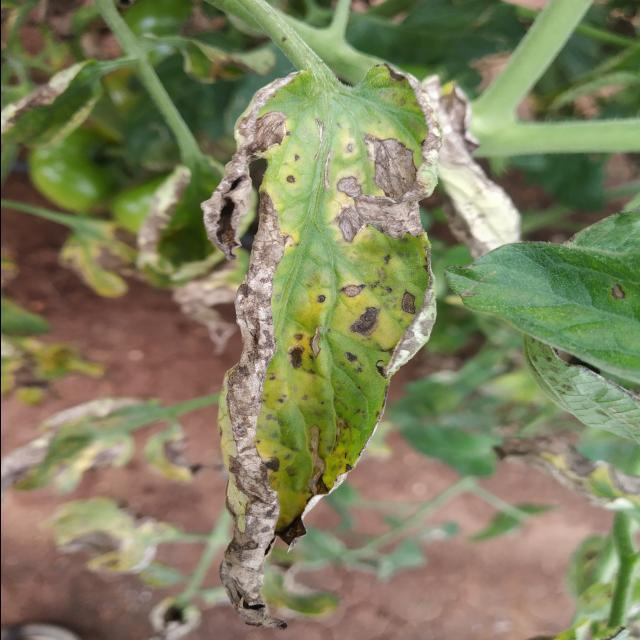Tomato mosaic virus leaf: (200, 62, 442, 630), (531, 219, 640, 354)
